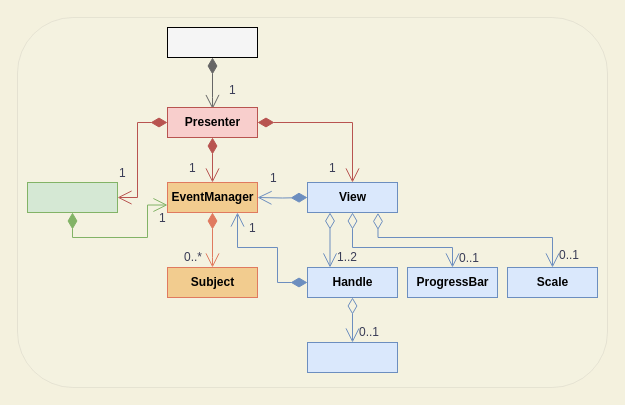
Some shapes in this 625 by 405 pixel diagram are drawn without their labels. The shapes that lost their labels are listed below. From the top down, each one's centre as x and y in pixels, then its label:
the point at 212,42: JustSlider
the point at 72,197: Model
the point at 352,357: Tooltip
